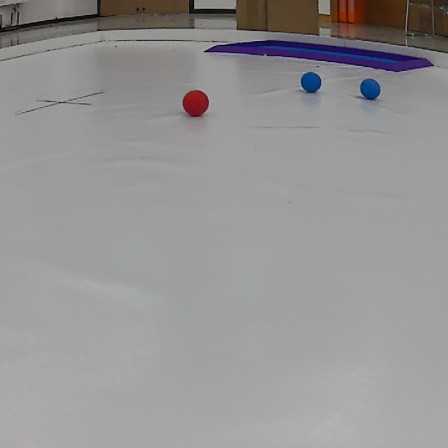blue: (299, 71, 323, 97), (360, 76, 382, 101)
blue_aim: (201, 32, 436, 75)
red: (182, 91, 209, 119)
